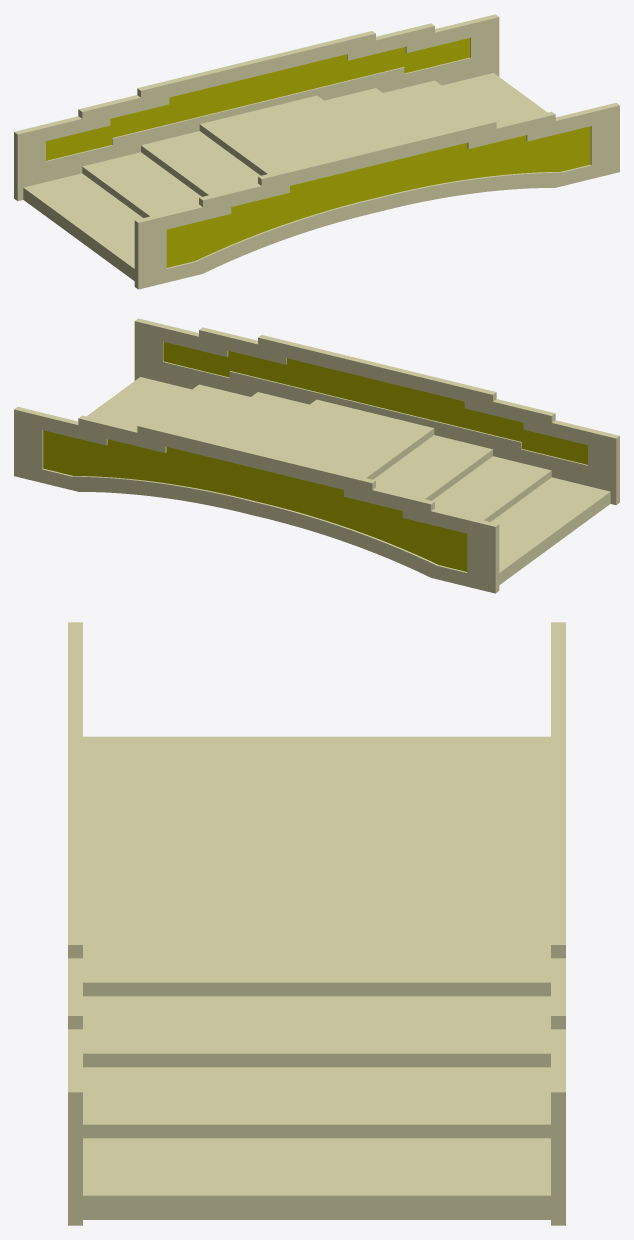
Rendered from Bridge.fbx.
3 views of the same model, one above another, from view 1: azimuth 30°, elevation 25°; view 2: azimuth 150°, elevation 25°; view 3: azimuth 270°, elevation 25° (orthographic). The views are drawn at different scales.
Parts seen in each view (by area): view 1: Prop_Jungle_Temple_Bridge_01.001, Prop_Jungle_Temple_Bridge_01; view 2: Prop_Jungle_Temple_Bridge_01.001, Prop_Jungle_Temple_Bridge_01; view 3: Prop_Jungle_Temple_Bridge_01.001.
Boxes of the visible parts, x1,y1,x2,y2 form: Prop_Jungle_Temple_Bridge_01.001: (14,14,619,289); Prop_Jungle_Temple_Bridge_01: (46,38,590,267); Prop_Jungle_Temple_Bridge_01.001: (14,318,619,593); Prop_Jungle_Temple_Bridge_01: (43,342,587,571); Prop_Jungle_Temple_Bridge_01.001: (68,622,565,1225).
Bounding box in the file's own units: 893 × 142 × 400.
